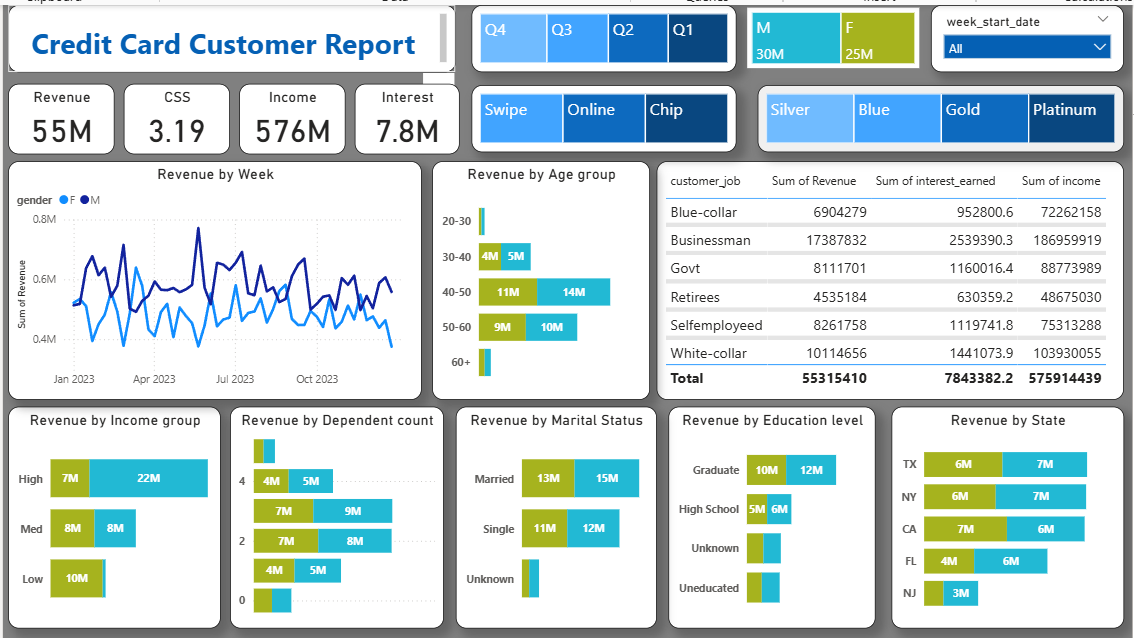

The dashboard page shown, as its layout file describes it:
{"tool":"powerbi","page":{"name":"cc_customer","canvas":[1280,720],"ordinal":1},"visuals":[{"type":"textbox","box":[5.9,0,507.2,75.9],"z":0},{"type":"barChart","title":"Revenue by Income group","fields":{"Y":["Sum(public cc_detail.Revenue)"],"Category":["public cust_detail.IncomeGroup"],"Series":["public cust_detail.gender"]},"box":[5.9,455.1,241,251.4],"z":1000},{"type":"tableEx","fields":{"Values":["public cust_detail.customer_job","Sum(public cc_detail.Revenue)","Sum(public cc_detail.interest_earned)","Sum(public cust_detail.income)"]},"box":[740.7,177,529.5,270.7],"z":2000},{"type":"card","title":"Revenue","fields":{"Values":["Sum(public cc_detail.Revenue)"]},"box":[5.9,89.2,120.5,80.3],"z":3000},{"type":"card","title":"Interest ","fields":{"Values":["Sum(public cc_detail.interest_earned)"]},"box":[398.6,89.2,119,80.3],"z":4000},{"type":"card","title":"Income","fields":{"Values":["Sum(public cust_detail.income)"]},"box":[267.7,89.2,120.5,80.3],"z":5000},{"type":"card","title":"CSS","fields":{"Values":["Avg(public cust_detail.cust_satisfaction_score)"]},"box":[136.8,89.2,120.5,80.3],"z":6000},{"type":"slicer","fields":{"Values":["public cc_detail.week_start_date"]},"box":[1051.6,0,218.6,75.9],"z":7000},{"type":"treemap","fields":{"Group":["public cc_detail.qtr"],"Values":["Avg(public cc_detail.client_num)"]},"box":[531,0,300.5,75.9],"z":8000},{"type":"treemap","fields":{"Values":["Avg(public cc_detail.client_num)"],"Group":["public cc_detail.use_chip"]},"box":[531,90.7,300.5,75.9],"z":9000},{"type":"treemap","fields":{"Values":["Avg(public cc_detail.client_num)"],"Group":["public cc_detail.card_category"]},"box":[855.3,90.7,415,75.9],"z":10000},{"type":"lineChart","title":"Revenue by Week ","fields":{"Y":["Sum(public cc_detail.Revenue)"],"Series":["public cust_detail.gender"],"Category":["public cc_detail.week_start_date.Variation.Date Hierarchy.Year","public cc_detail.week_start_date.Variation.Date Hierarchy.Month","public cc_detail.week_start_date.Variation.Date Hierarchy.Day"]},"box":[5.9,177,468.5,270.7],"z":11000},{"type":"treemap","fields":{"Group":["public cust_detail.gender"],"Values":["Sum(public cc_detail.Revenue)"]},"box":[843.4,3,194.8,68.4],"z":12000},{"type":"barChart","title":"Revenue by Age group","fields":{"Y":["Sum(public cc_detail.Revenue)"],"Category":["public cust_detail.AgeGroup"],"Series":["public cust_detail.gender"]},"box":[486.4,177,246.9,270.7],"z":13000},{"type":"barChart","title":"Revenue by Dependent count","fields":{"Y":["Sum(public cc_detail.Revenue)"],"Category":["public cust_detail.dependent_count"],"Series":["public cust_detail.gender"]},"box":[257.3,455.1,242.4,251.4],"z":14000},{"type":"barChart","title":"Revenue by Education level","fields":{"Y":["Sum(public cc_detail.Revenue)"],"Category":["public cust_detail.education_level"],"Series":["public cust_detail.gender"]},"box":[754.1,455.1,235,251.4],"z":15000},{"type":"barChart","title":"Revenue by State","fields":{"Y":["Sum(public cc_detail.Revenue)"],"Category":["public cust_detail.state_cd"],"Series":["public cust_detail.gender"]},"box":[1007,455.1,263.3,251.4],"z":16000},{"type":"barChart","title":"Revenue by Marital Status","fields":{"Y":["Sum(public cc_detail.Revenue)"],"Category":["public cust_detail.marital_status"],"Series":["public cust_detail.gender"]},"box":[513.2,455.1,227.6,251.4],"z":17000}]}

Visuals, with their boxes in screenshot pixels (x1, y1, x2, y2), scaled from the page's 1280x720 canvas onto the 1134x638 screenshot:
textbox: {"left": 5, "top": 0, "right": 455, "bottom": 67}
"Revenue by Income group" barChart: {"left": 5, "top": 403, "right": 219, "bottom": 626}
tableEx - public cust_detail.customer_job x Sum(public cc_detail.Revenue): {"left": 656, "top": 157, "right": 1125, "bottom": 397}
"Revenue" card: {"left": 5, "top": 79, "right": 112, "bottom": 150}
"Interest " card: {"left": 353, "top": 79, "right": 459, "bottom": 150}
"Income" card: {"left": 237, "top": 79, "right": 344, "bottom": 150}
"CSS" card: {"left": 121, "top": 79, "right": 228, "bottom": 150}
slicer - public cc_detail.week_start_date: {"left": 932, "top": 0, "right": 1125, "bottom": 67}
treemap - public cc_detail.qtr x Avg(public cc_detail.client_num): {"left": 470, "top": 0, "right": 737, "bottom": 67}
treemap - Avg(public cc_detail.client_num) x public cc_detail.use_chip: {"left": 470, "top": 80, "right": 737, "bottom": 148}
treemap - Avg(public cc_detail.client_num) x public cc_detail.card_category: {"left": 758, "top": 80, "right": 1125, "bottom": 148}
"Revenue by Week " lineChart: {"left": 5, "top": 157, "right": 420, "bottom": 397}
treemap - public cust_detail.gender x Sum(public cc_detail.Revenue): {"left": 747, "top": 3, "right": 920, "bottom": 63}
"Revenue by Age group" barChart: {"left": 431, "top": 157, "right": 650, "bottom": 397}
"Revenue by Dependent count" barChart: {"left": 228, "top": 403, "right": 443, "bottom": 626}
"Revenue by Education level" barChart: {"left": 668, "top": 403, "right": 876, "bottom": 626}
"Revenue by State" barChart: {"left": 892, "top": 403, "right": 1125, "bottom": 626}
"Revenue by Marital Status" barChart: {"left": 455, "top": 403, "right": 656, "bottom": 626}
